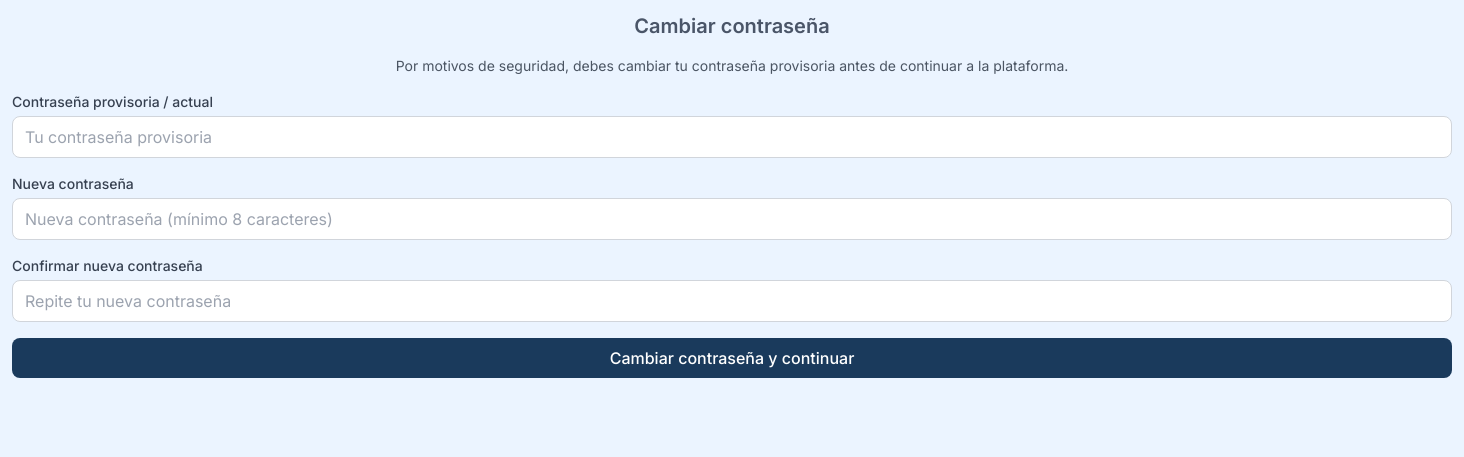
ChangePasswordPage (relevo-web) › muestra mensaje genérico para errores que no son ApiError
This screenshot has width=1464, height=457.
Type "oldPass123" into the password field labelled "Contraseña provisoria / actual" at (732, 137), box [12,116,1452,158]
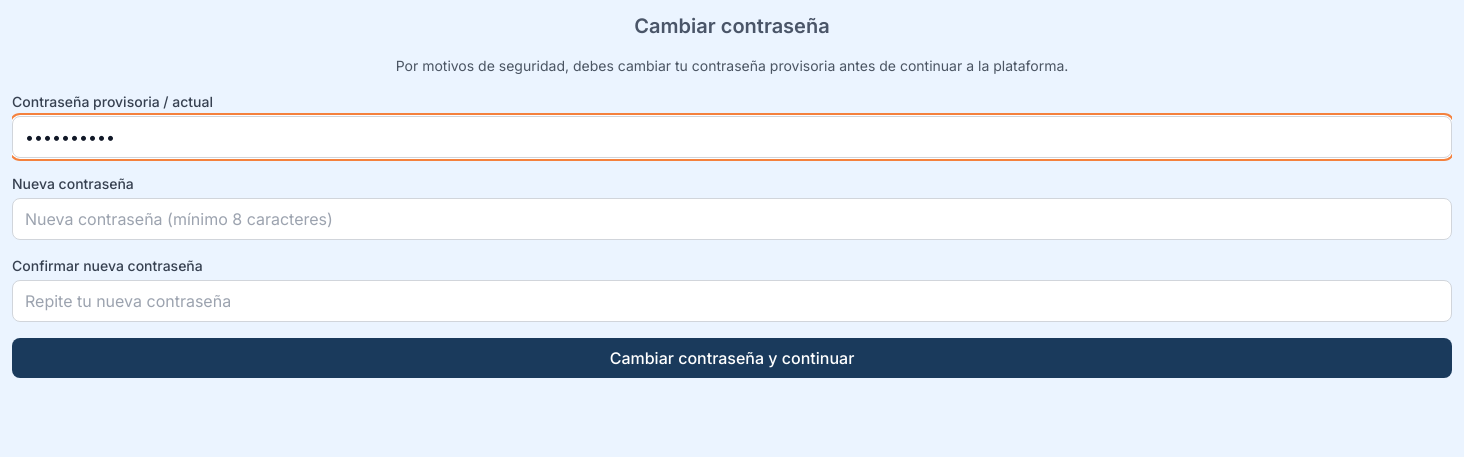
Type "newPass456" into the password field labelled "Nueva contraseña" at (732, 219), box [12,198,1452,240]
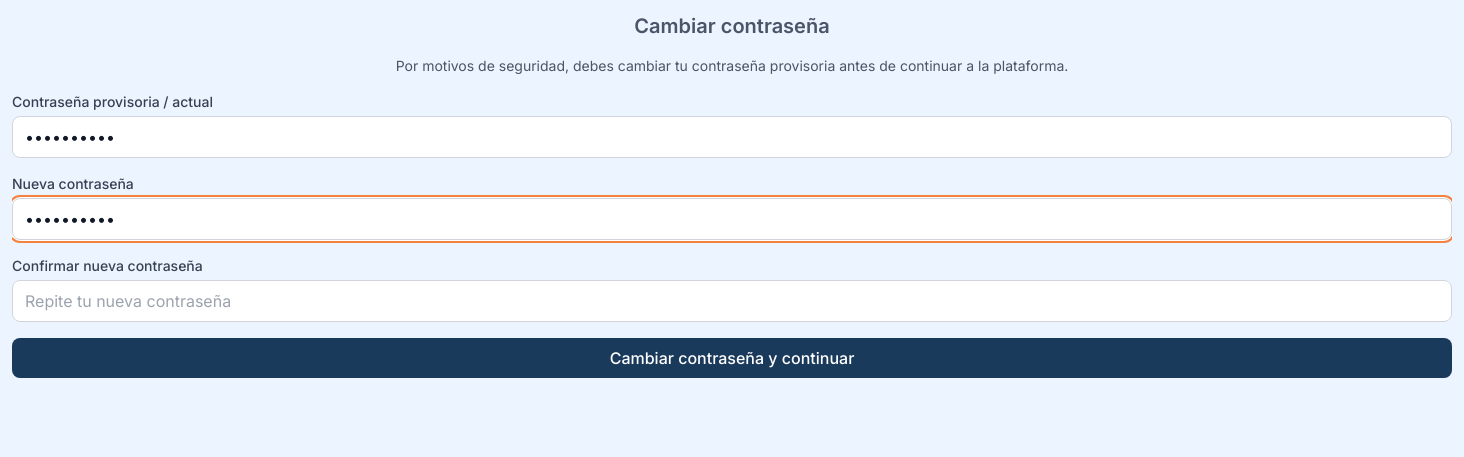
Type "newPass456" into the password field labelled "Confirmar nueva contraseña" at (732, 301), box [12,280,1452,322]
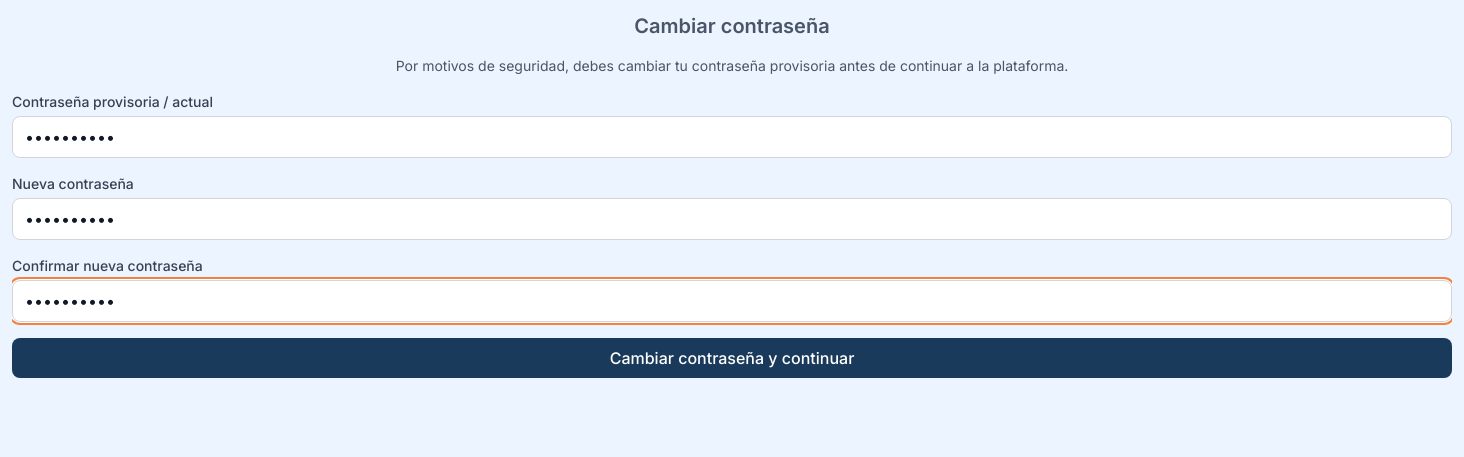
Click the button "Cambiar contraseña y continuar" at (732, 358), box [12,338,1452,378]
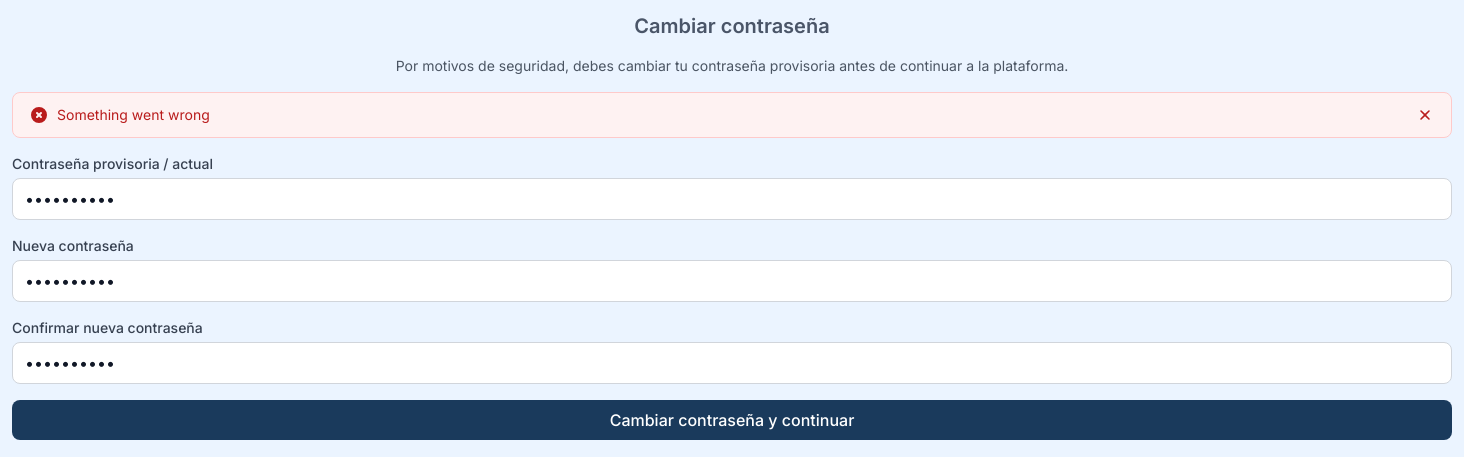
Expected: the text "Something went wrong" is shown, [57,106,210,123]
